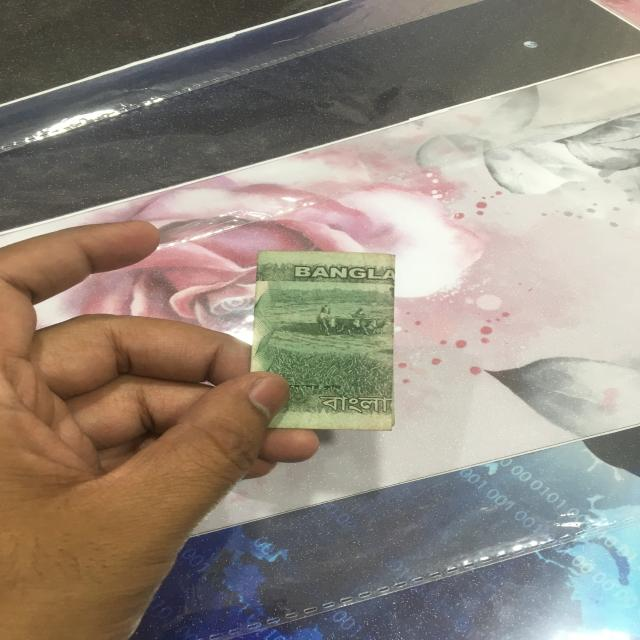Taka: (255, 252, 395, 426)
